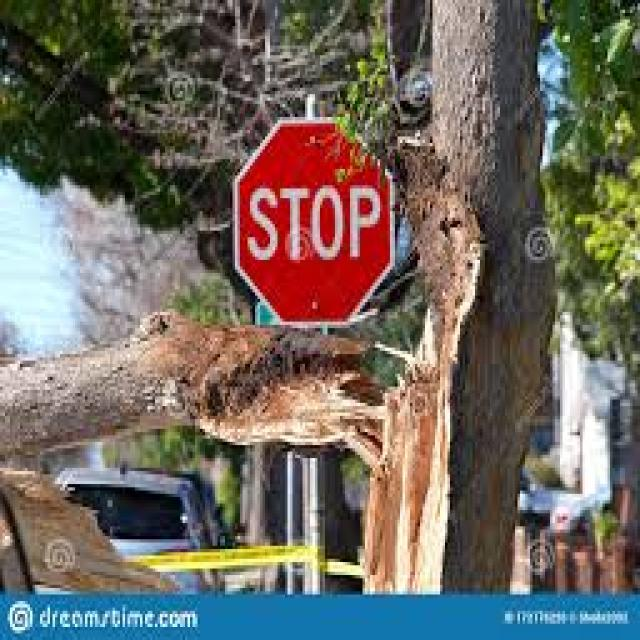stop-sign: (223, 97, 425, 315)
